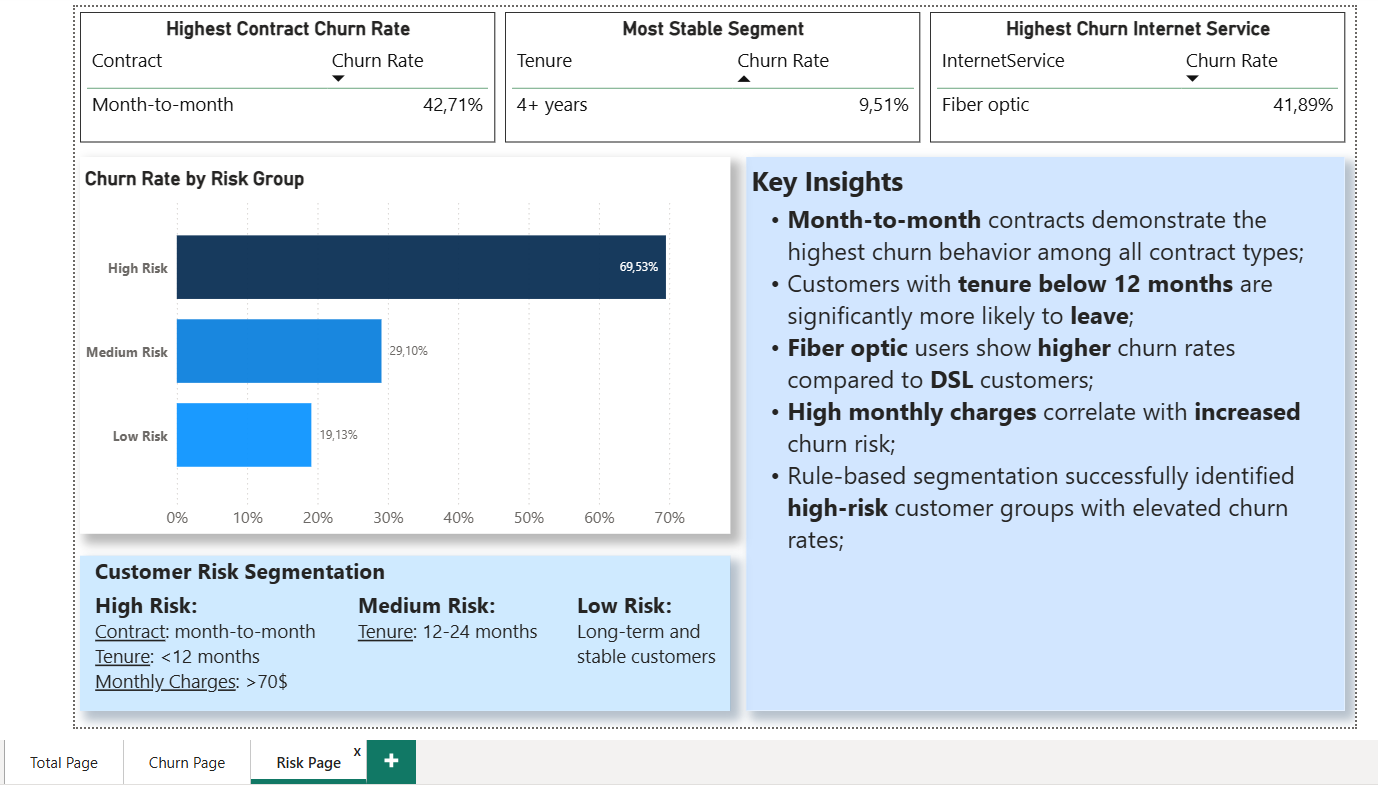

The page's visual inventory and layout, read from the dashboard file:
{"tool":"powerbi","page":{"name":"Risk Page","canvas":[1280,720],"ordinal":2},"visuals":[{"type":"tableEx","title":"Highest Contract Churn Rate","fields":{"Values":["churn_final.Contract","churn_final.churn_percent"]},"box":[5,5,415,130],"z":0},{"type":"barChart","fields":{"Category":["churn_final.risk_group"],"Y":["churn_final.churn_percent"]},"box":[5,150,650,376.7],"z":1000},{"type":"textbox","title":"Customer Risk Segmentation","box":[5,548.3,650,155],"z":2000},{"type":"textbox","title":"Key Insights","box":[671.7,150,598.3,553.3],"z":3000},{"type":"tableEx","title":"Most Stable Segment","fields":{"Values":["churn_final.tenure_group","churn_final.churn_percent"]},"box":[430,5,415,130],"z":4000},{"type":"tableEx","title":"Highest Churn Internet Service","fields":{"Values":["churn_final.InternetService","churn_final.churn_percent"]},"box":[855,5,415,130],"z":5000}]}

Visuals, with their boxes on the page's 1280x720 design canvas (x1, y1, x2, y2). These are canvas units, not pixel positions in the 1378x785 screenshot, which may show the page scaled, cropped or inside an application window:
"Highest Contract Churn Rate" tableEx: x1=5, y1=5, x2=420, y2=135
barChart - churn_final.risk_group x churn_final.churn_percent: x1=5, y1=150, x2=655, y2=527
"Customer Risk Segmentation" textbox: x1=5, y1=548, x2=655, y2=703
"Key Insights" textbox: x1=672, y1=150, x2=1270, y2=703
"Most Stable Segment" tableEx: x1=430, y1=5, x2=845, y2=135
"Highest Churn Internet Service" tableEx: x1=855, y1=5, x2=1270, y2=135
